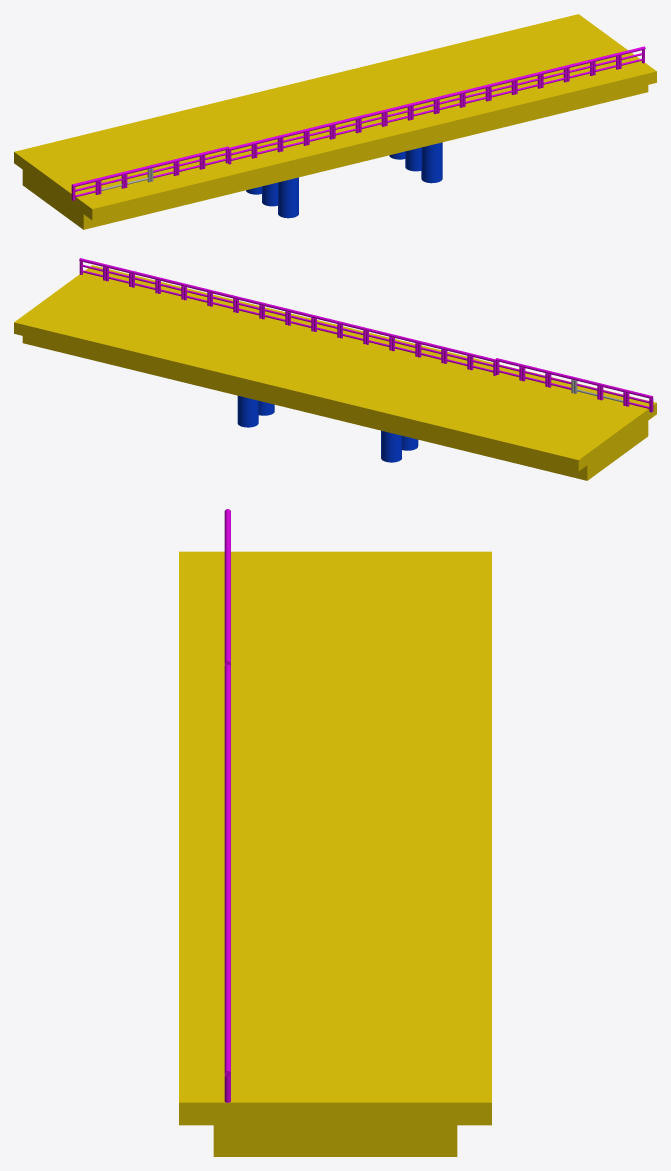
The model's file is bridge_low.fbx.
3 views of the same model, one above another, from view 1: azimuth 30°, elevation 25°; view 2: azimuth 150°, elevation 25°; view 3: azimuth 270°, elevation 25° (orthographic). The views are drawn at different scales.
Parts seen in each view (by area): view 1: pCube2, pCylinder13, pCylinder3 (×2), pCylinder2 (×2), polySurface80; view 2: pCube2, pCylinder13, pCylinder1 (×2); view 3: pCube2, pCylinder13.
Part boxes in pixels (bbox=[...]): pCube2: bbox=[14, 14, 656, 229]; pCylinder13: bbox=[228, 46, 645, 164]; pCylinder3 (×2): bbox=[278, 142, 442, 218]; pCylinder2 (×2): bbox=[262, 147, 421, 206]; polySurface80: bbox=[71, 178, 99, 200]; pCube2: bbox=[14, 265, 656, 480]; pCylinder13: bbox=[79, 258, 496, 375]; pCylinder1 (×2): bbox=[237, 396, 401, 462]; pCube2: bbox=[179, 551, 491, 1156]; pCylinder13: bbox=[224, 664, 230, 1102].
Bounding box in the file's own units: 3917 × 576 × 928.
